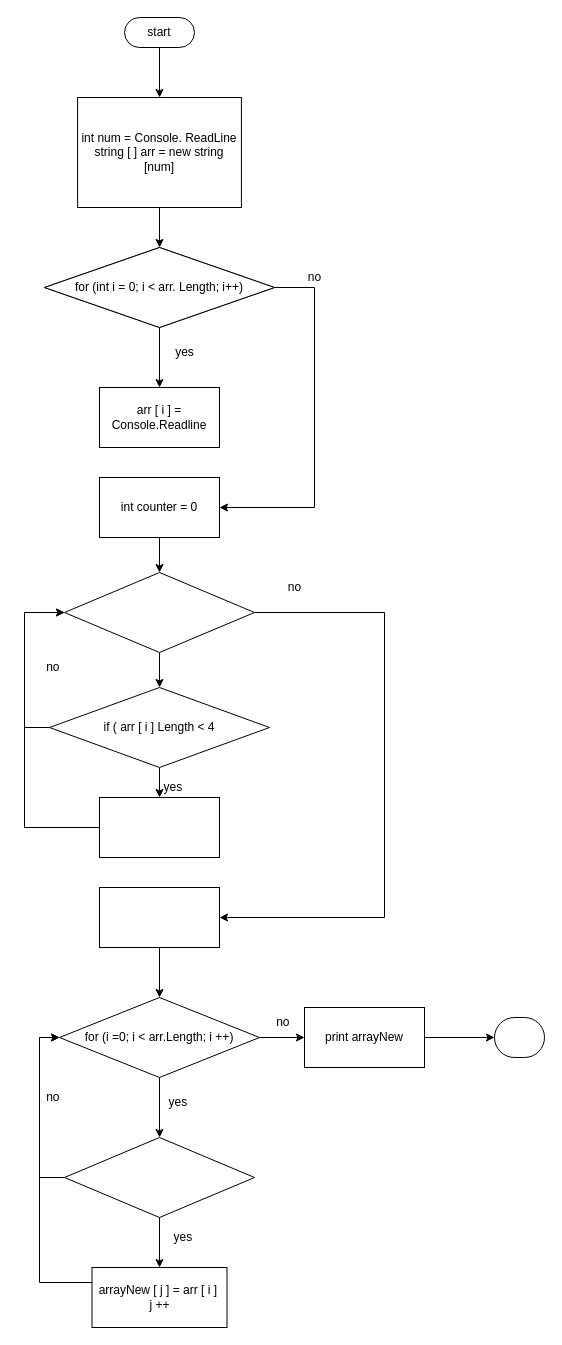
Image size: 562x1345. Some labels were removed from this diagram. The shapes that lost their labels are listed below. From the top down, each one's centre as x and y in pixels, then its label:
the point at 159,612: fot ( i =0; i < arr.Length; i++
the point at 159,827: conter ++
the point at 159,917: string [ ] arrayNew = new string [ counter] int j = 0
the point at 519,1037: end
the point at 159,1177: if (arr [ i ] Length < 4 )
